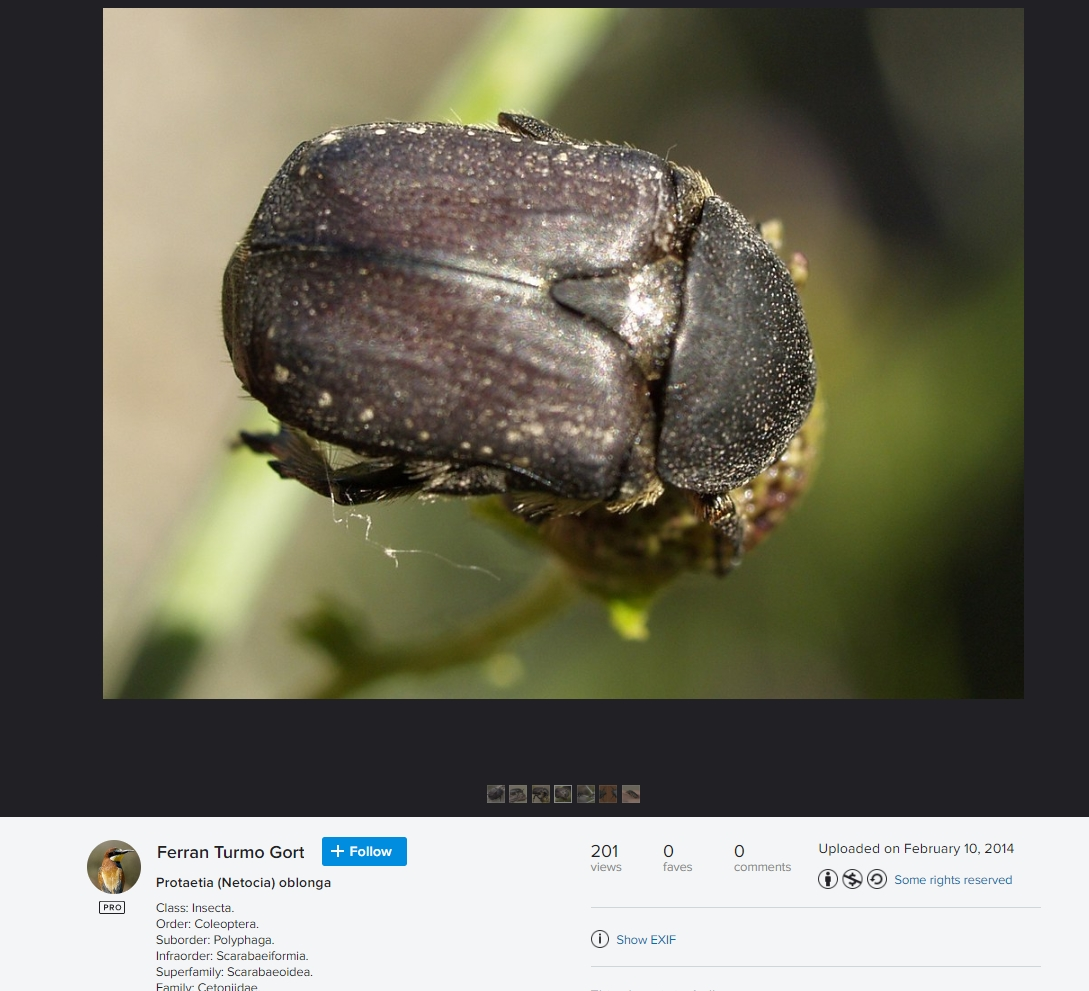Protaetia_oblonga: (219, 102, 820, 574)
